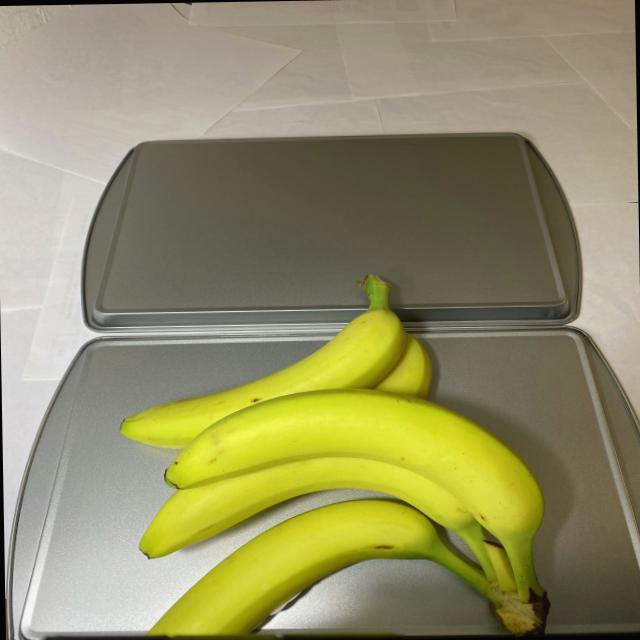banana: (108, 269, 555, 640)
